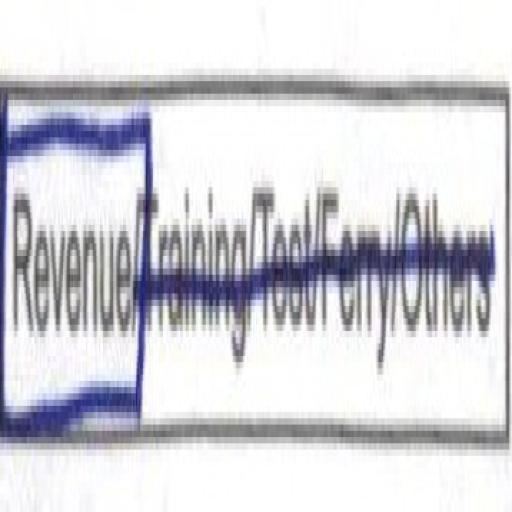check: (1, 48, 144, 491)
